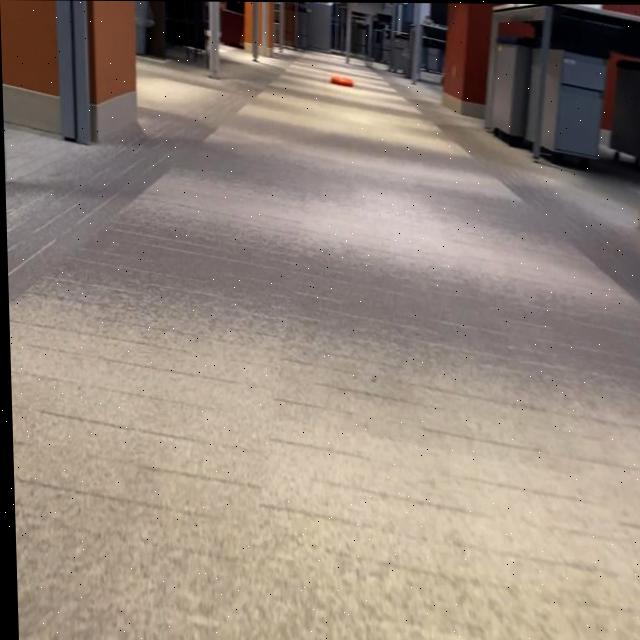note: (330, 72, 355, 89)
